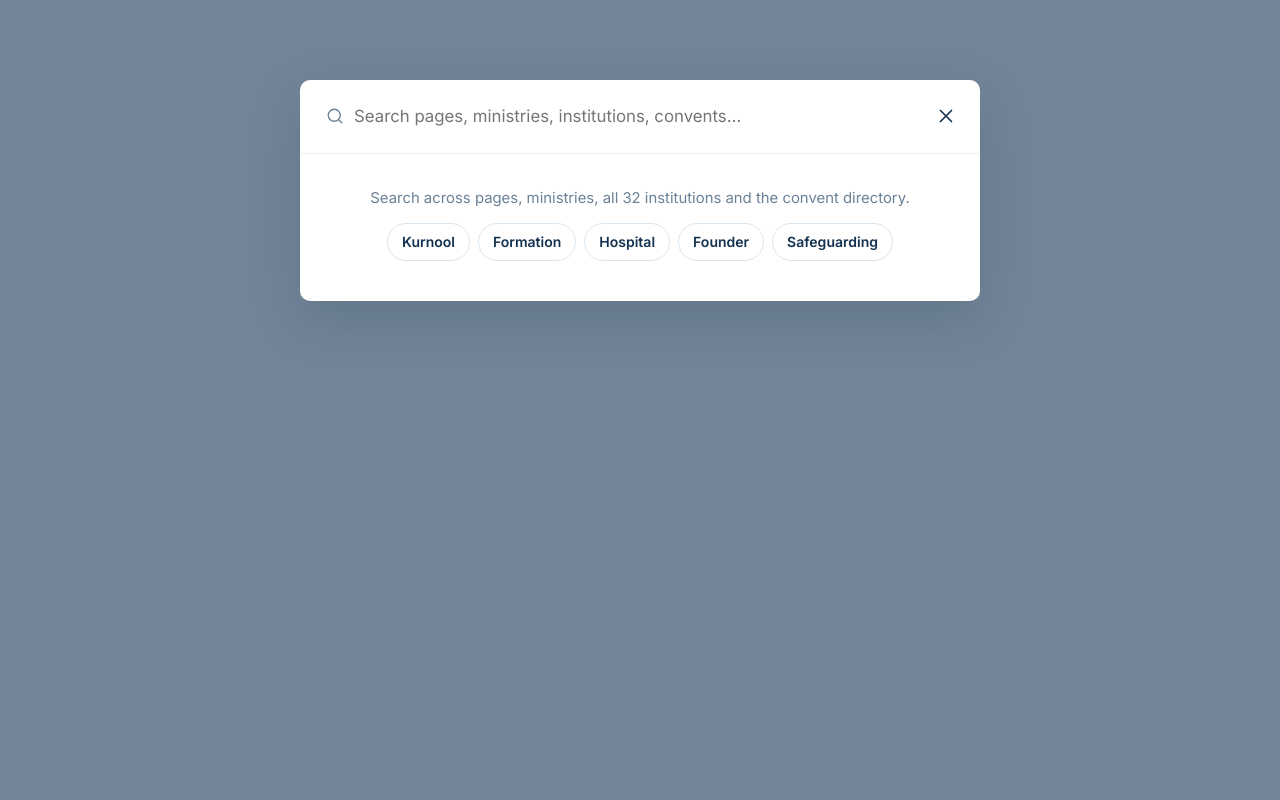
GlobalSearchDialog › shows grouped results for a matching query
In the search field named "search this website": (614, 116) [312,92,916,140], type "Achampet"
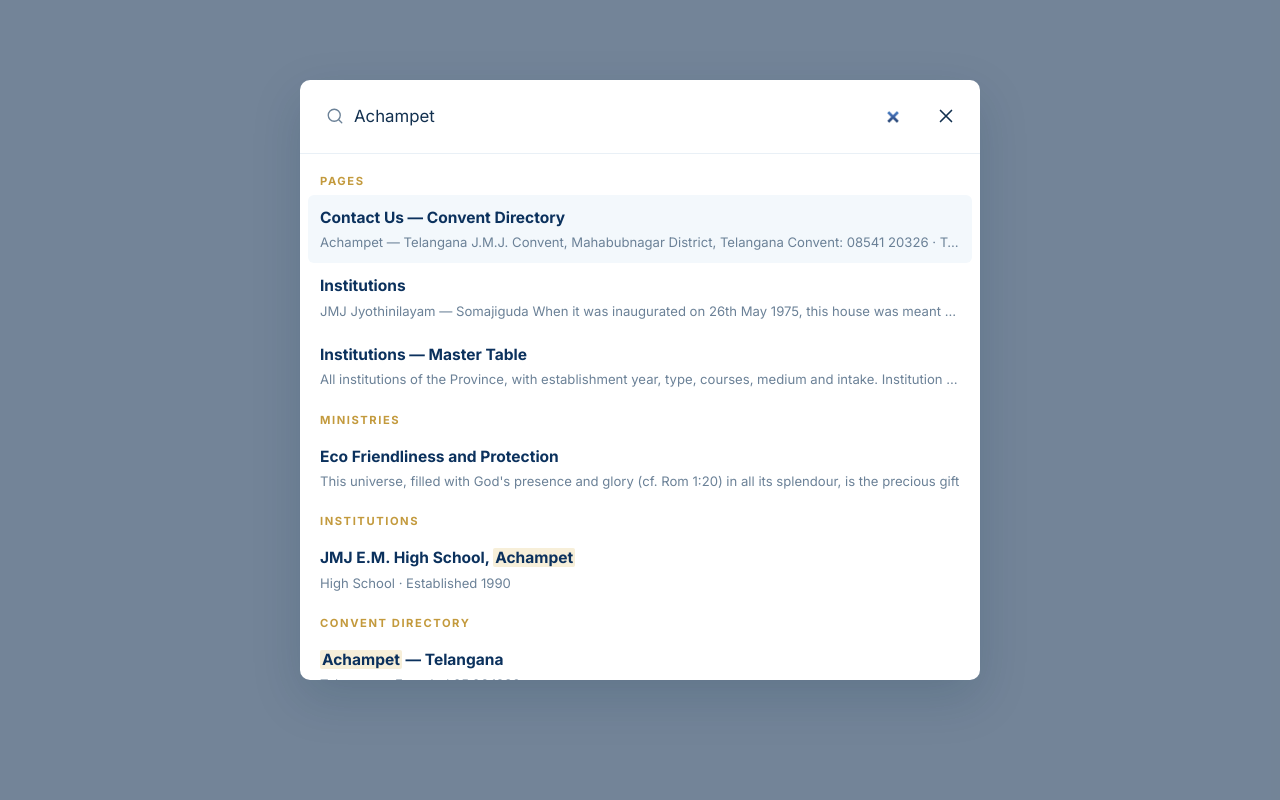
Now the element "Institutions" is shown, box [308,502,972,604]
